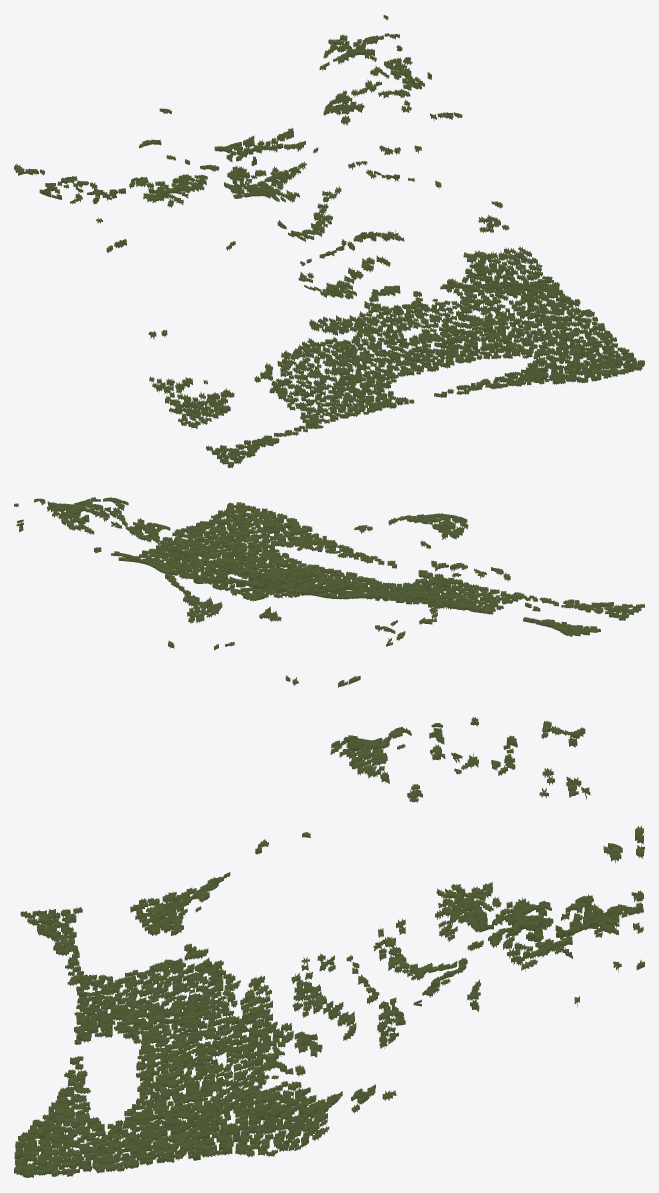
Rendered from TRB8-GRASS-CHUNK-3-2.glb.
The picture shows the model from 3 angles, top to bottom: view 1: azimuth 30°, elevation 25°; view 2: azimuth 150°, elevation 25°; view 3: azimuth 270°, elevation 25°; orthographic projection. The views are drawn at different scales.
Parts seen in each view (by area): view 1: TRB8-GRASS-CHUNK-3-2; view 2: TRB8-GRASS-CHUNK-3-2; view 3: TRB8-GRASS-CHUNK-3-2.
Boxes of the visible parts, x1,y1,x2,y2 form: TRB8-GRASS-CHUNK-3-2: (14,15,644,468); TRB8-GRASS-CHUNK-3-2: (14,497,644,687); TRB8-GRASS-CHUNK-3-2: (14,717,644,1177).
Bounding box in the file's own units: 40.51 × 16.91 × 40.51.
1 material, 1 textured.
